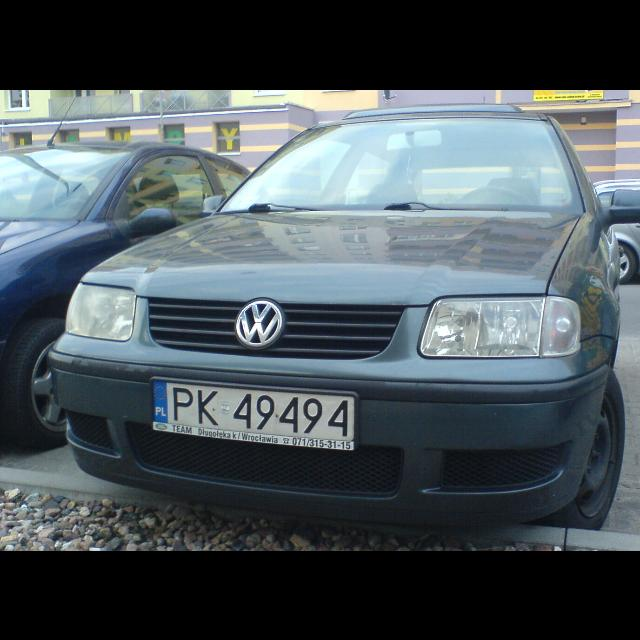pl_license_plate: (152, 378, 354, 440)
